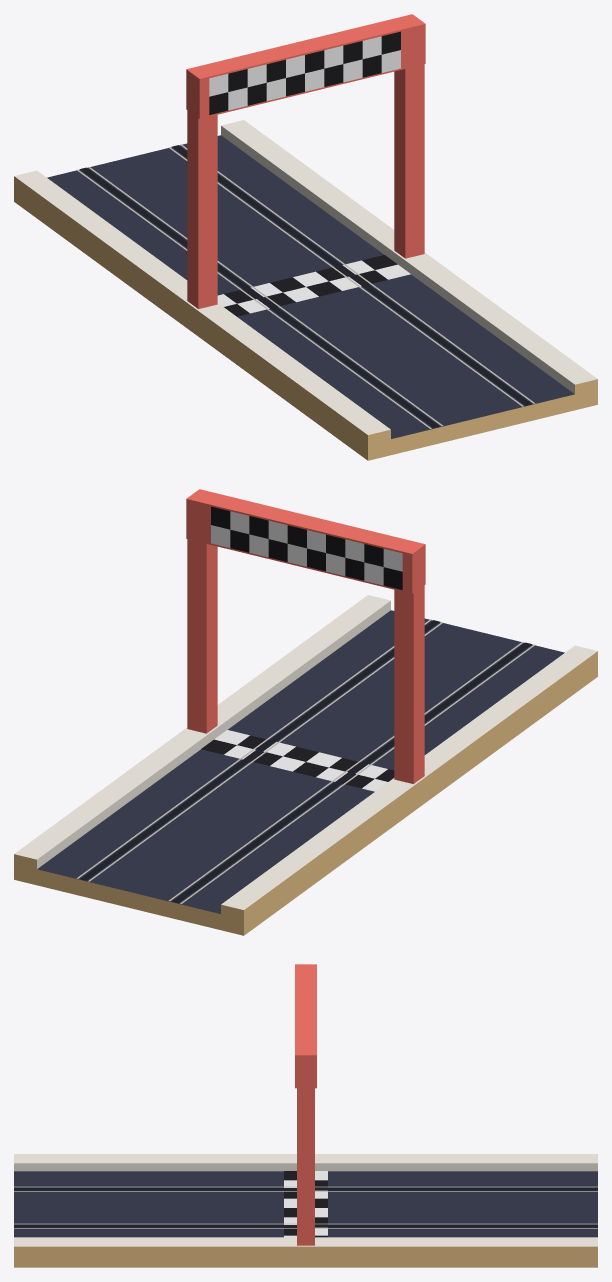
File: Track_2L_StartFinish.fbx
3 renders of one model, top to bottom at view 1: azimuth 30°, elevation 25°; view 2: azimuth 150°, elevation 25°; view 3: azimuth 270°, elevation 25°, orthographic. The views are drawn at different scales.
Visible parts, largest first — view 1: Track_2L_StartFinish, Track_2L_StartFinish_Gate; view 2: Track_2L_StartFinish, Track_2L_StartFinish_Gate; view 3: Track_2L_StartFinish, Track_2L_StartFinish_Gate.
Part boxes in pixels (<box>): Track_2L_StartFinish: <box>14,120,597,460</box>; Track_2L_StartFinish_Gate: <box>186,14,425,308</box>; Track_2L_StartFinish: <box>14,595,597,935</box>; Track_2L_StartFinish_Gate: <box>186,489,425,783</box>; Track_2L_StartFinish: <box>14,1154,597,1267</box>; Track_2L_StartFinish_Gate: <box>295,964,316,1245</box>.
Bounding box in the file's own units: 3 × 3.2 × 8.
